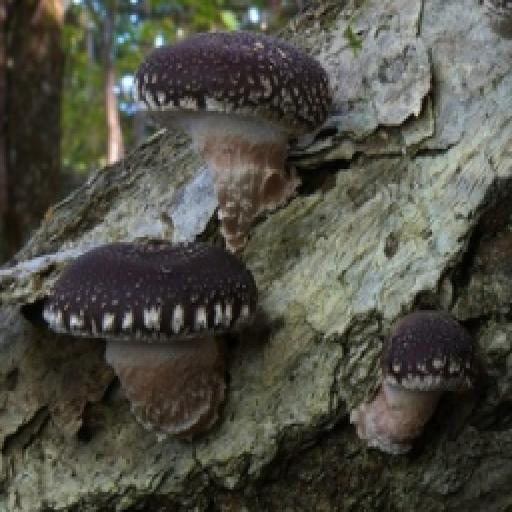Shiitake Mushroom: (39, 194, 284, 437), (131, 0, 357, 227), (341, 306, 487, 461)
